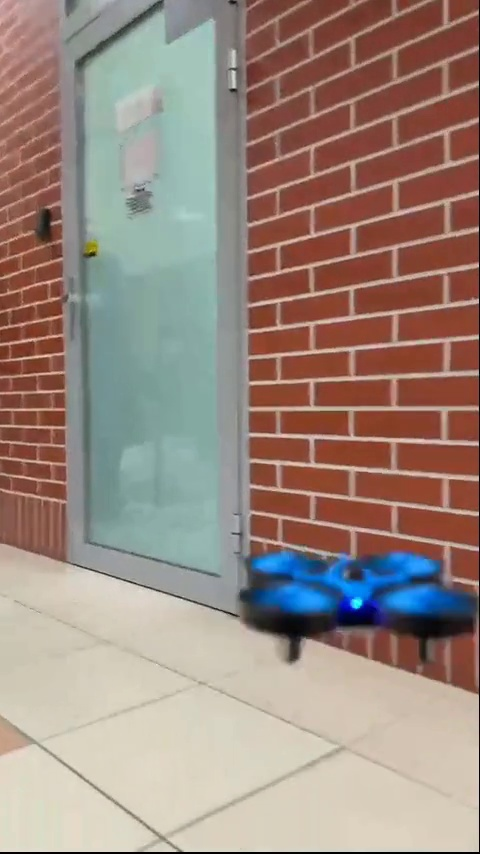drone: (246, 553, 474, 671)
